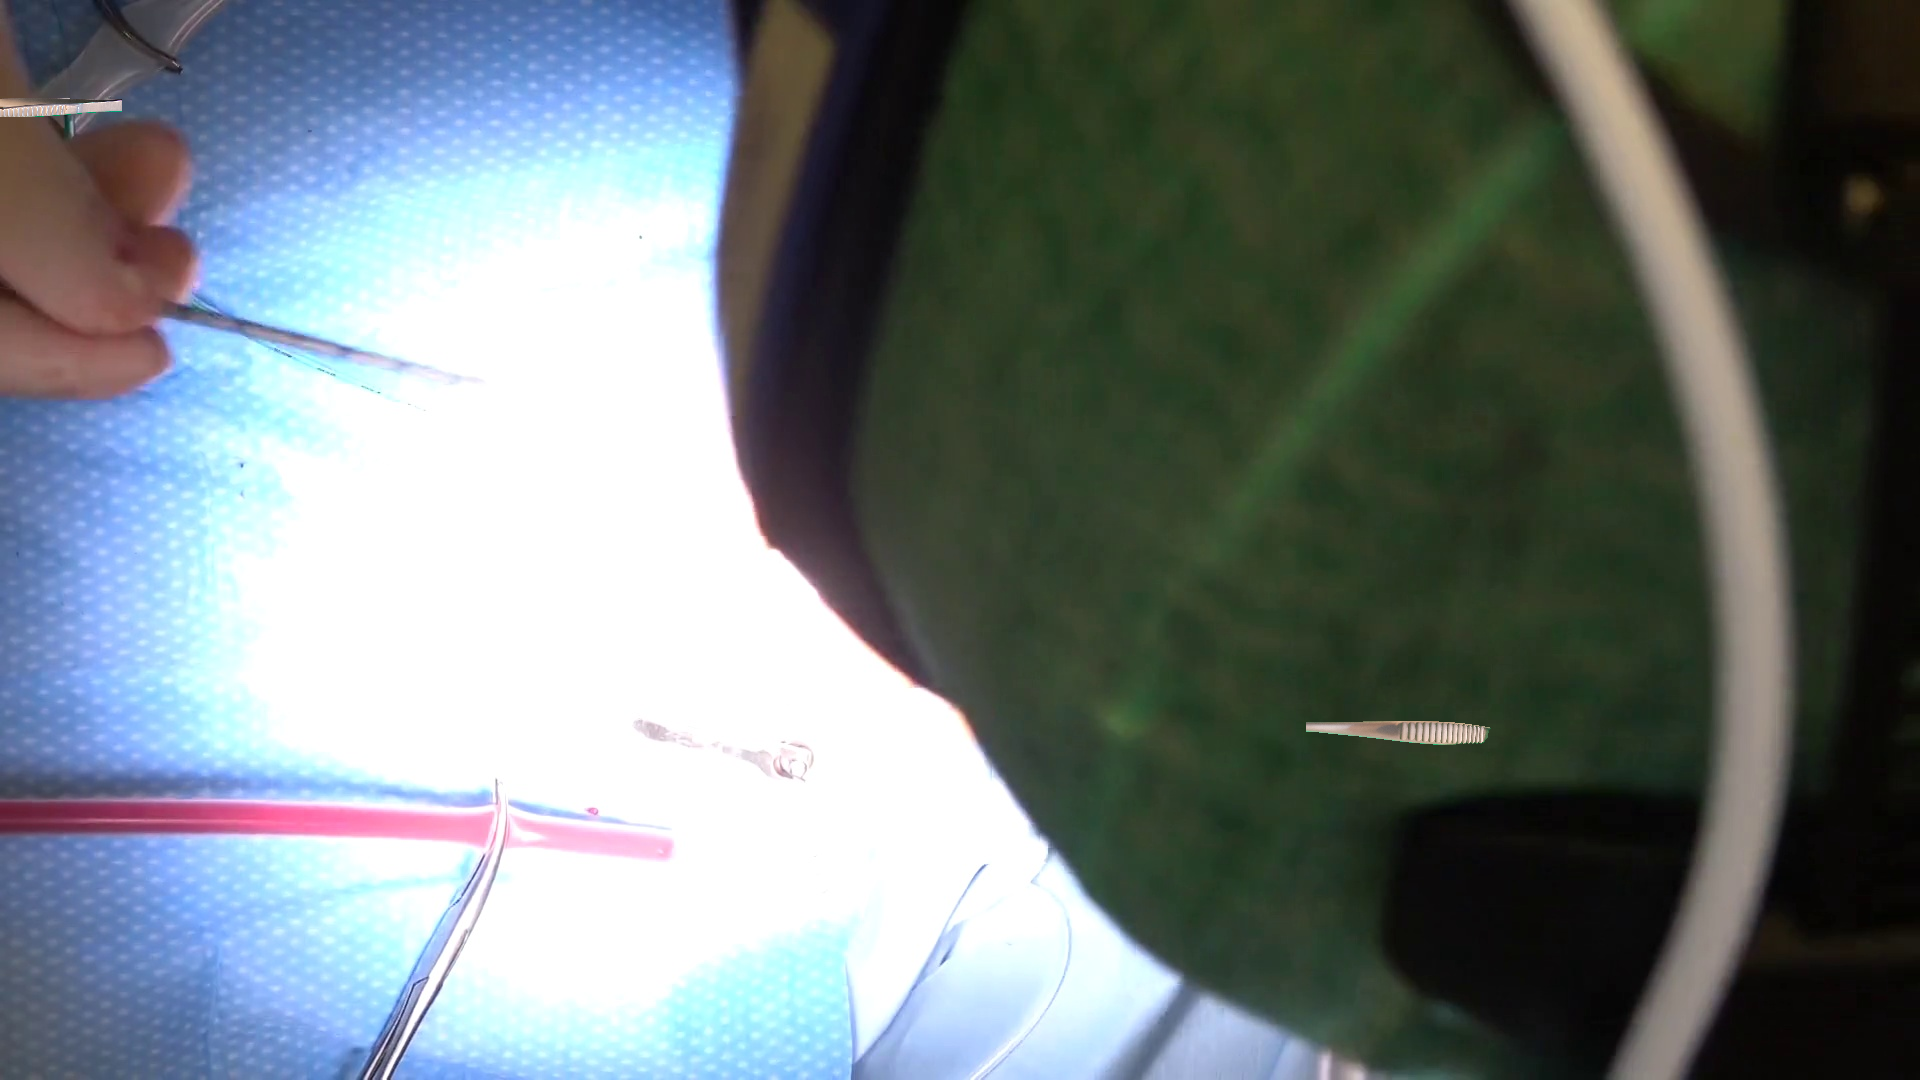forceps: (1305, 721, 1490, 744), (0, 98, 121, 116)
